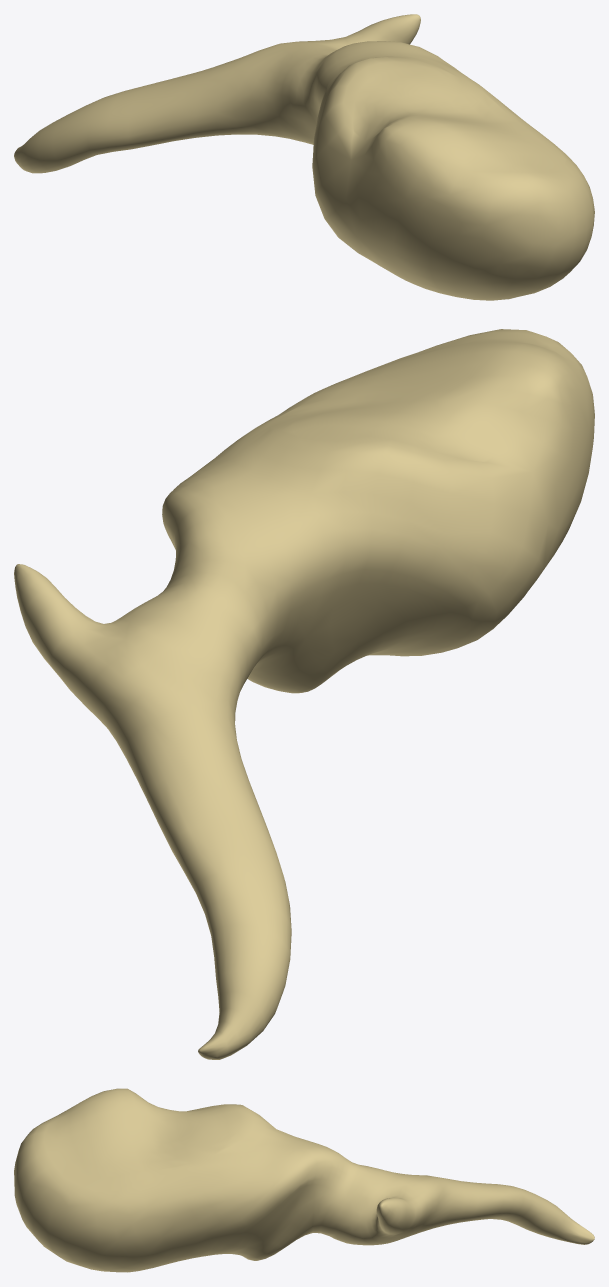
3 renders of one model, top to bottom at view 1: azimuth 30°, elevation 25°; view 2: azimuth 150°, elevation 25°; view 3: azimuth 270°, elevation 25°, orthographic. The views are drawn at different scales.
Parts seen in each view (by area): view 1: 左侧锤骨; view 2: 左侧锤骨; view 3: 左侧锤骨.
Boxes of the visible parts, x1,y1,x2,y2 form: 左侧锤骨: (14, 14, 594, 300); 左侧锤骨: (14, 329, 594, 1059); 左侧锤骨: (14, 1088, 594, 1272).
Size of the model in its own units: 0.00536 by 0.00424 by 0.0121.
